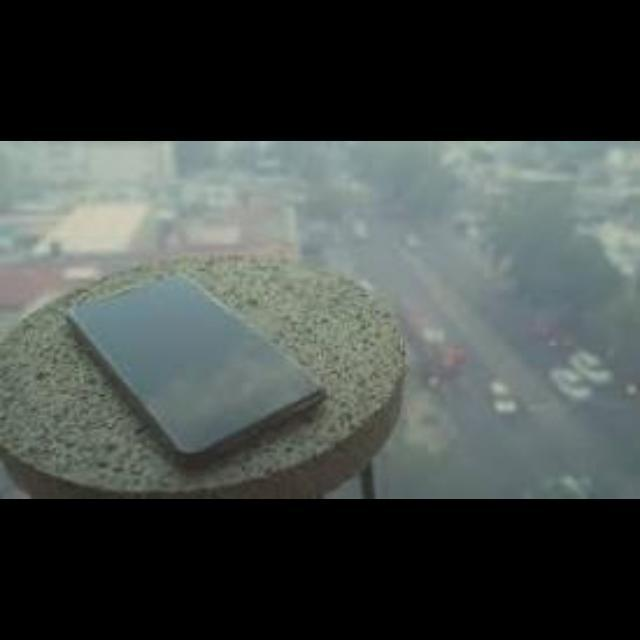phone: (89, 268, 317, 446)
